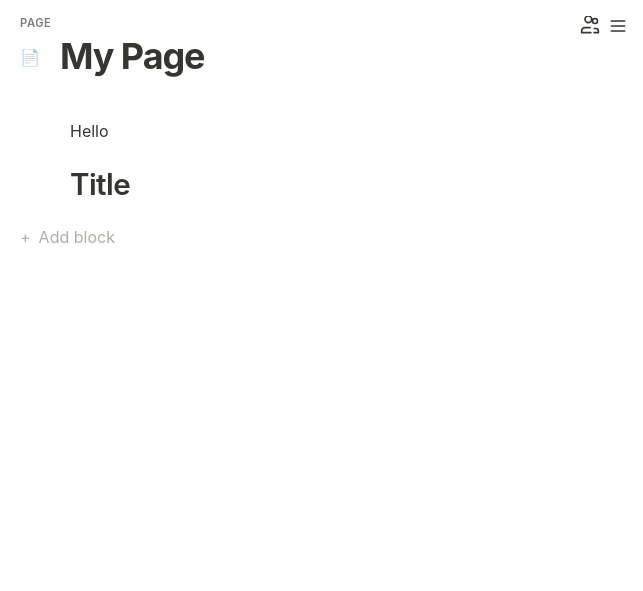
Scenario: PageEditor › adds a new block from the plus button, then focuses it after choosing a type
Click the button "+ Add block": (67,237) x1=20 y1=225 x2=115 y2=249
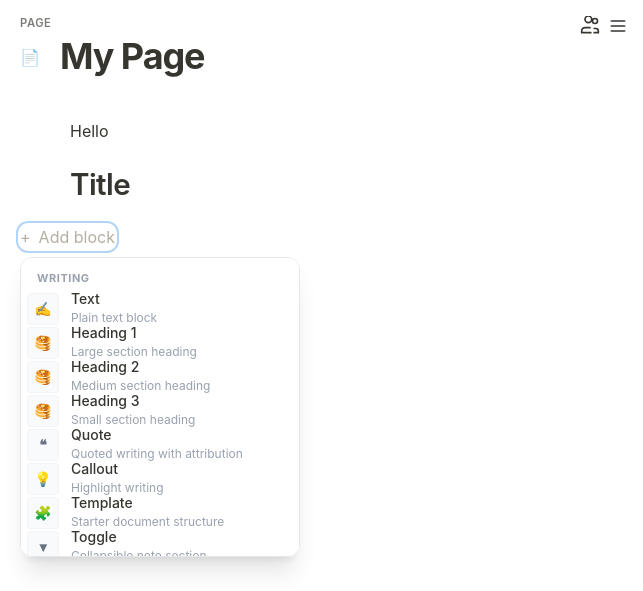
Check: the text "Writing" is shown, box x1=37 y1=271 x2=90 y2=285
Click the button "✍️ Text Plain text block": (160,309) x1=27 y1=292 x2=293 y2=326
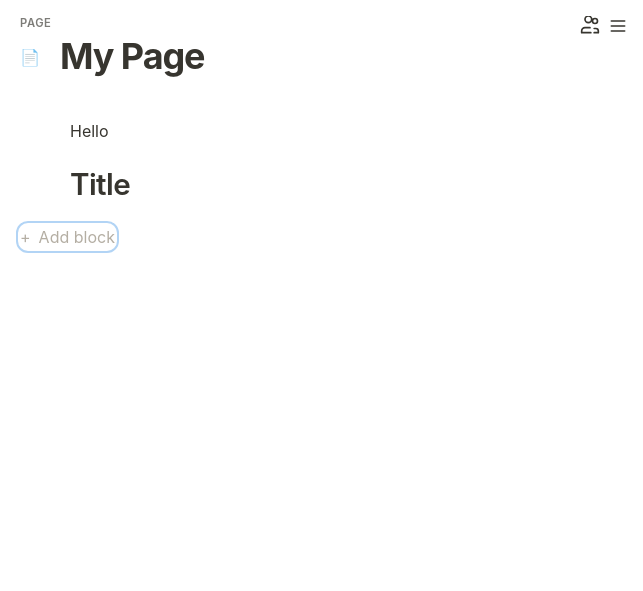
Check: the text "Writing" is gone
